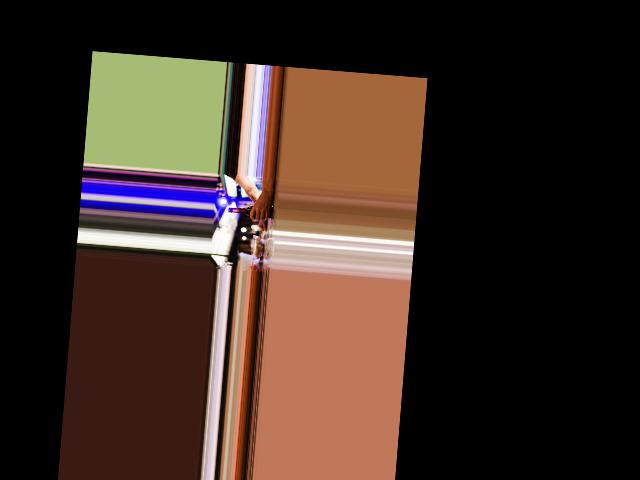beer: (228, 204, 272, 218)
